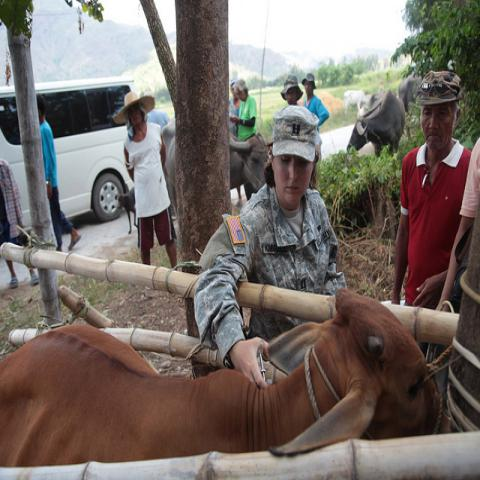bus: (0, 76, 136, 238)
